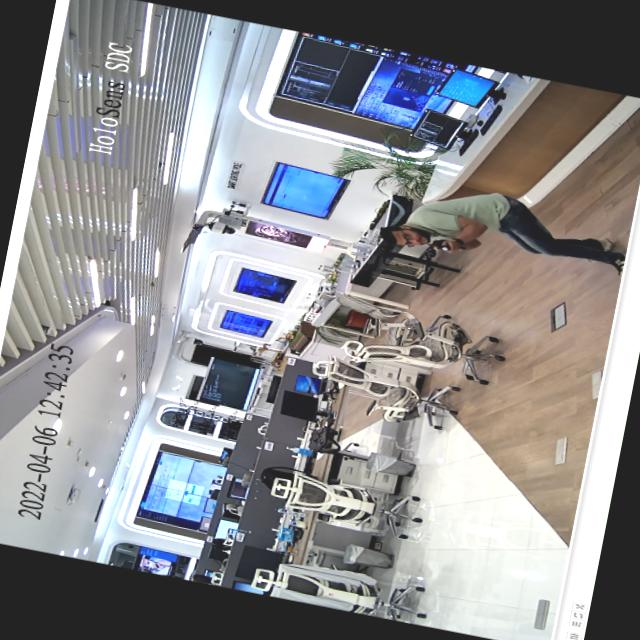long weapon: (426, 232, 474, 256)
